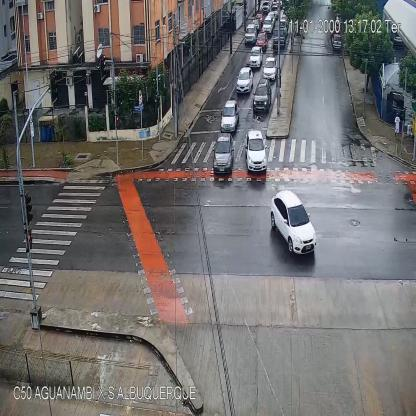car: (270, 188, 317, 254), (245, 130, 267, 172), (213, 132, 234, 176), (252, 78, 272, 113), (219, 102, 240, 132), (236, 66, 253, 93), (263, 57, 275, 81), (249, 46, 262, 66), (244, 24, 257, 43), (274, 30, 286, 48), (257, 32, 268, 48), (263, 17, 273, 34), (332, 33, 342, 49), (278, 20, 287, 34), (252, 20, 261, 31), (256, 12, 263, 24), (271, 5, 278, 17)
person: (395, 113, 401, 142)
